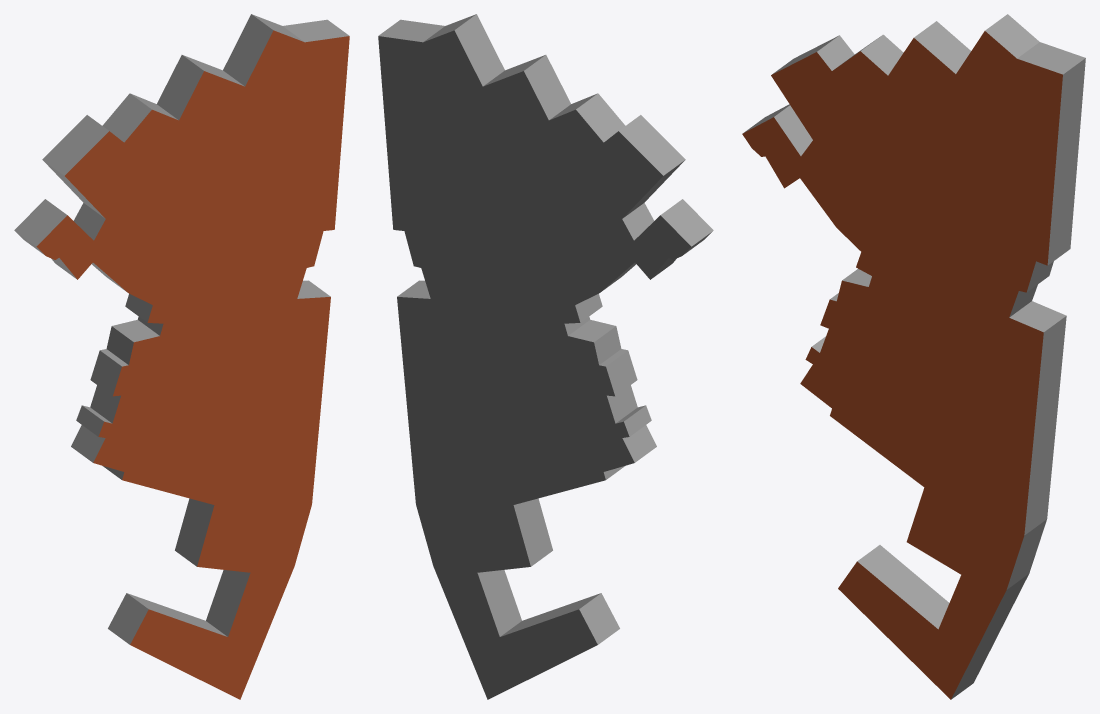
Rendered from construction_0872_assumed_A_Casa_h6m.obj.
The picture shows the model from 3 angles, left to right: view 1: azimuth 30°, elevation 25°; view 2: azimuth 150°, elevation 25°; view 3: azimuth 330°, elevation 25°; orthographic projection. The views are drawn at different scales.
Visible parts, largest first — view 1: construction_0872_assumed_A_Casa; view 2: construction_0872_assumed_A_Casa; view 3: construction_0872_assumed_A_Casa.
Boxes of the visible parts, <box> form: construction_0872_assumed_A_Casa: <box>14,14,349,699</box>; construction_0872_assumed_A_Casa: <box>378,14,713,699</box>; construction_0872_assumed_A_Casa: <box>742,14,1085,699</box>.
Bounding box in the file's own units: 48.65 × 98.14 × 6.
